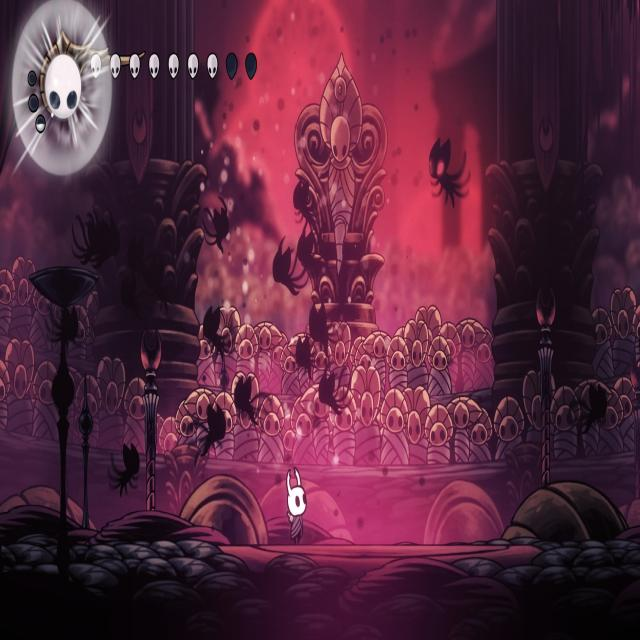Player: (284, 463, 308, 549)
Staggered_Grimm: (428, 132, 472, 211)
